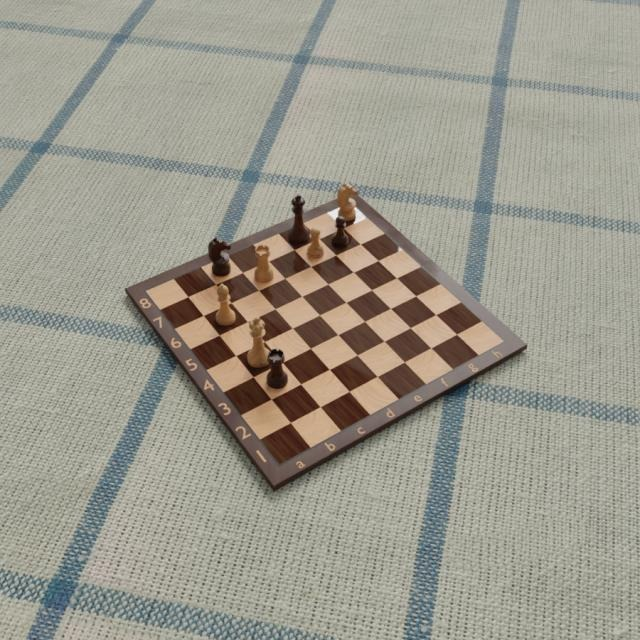black-king: (287, 195, 310, 245)
black-knight: (207, 238, 232, 278)
black-pawn: (331, 215, 349, 248)
black-rook: (265, 347, 286, 389)
white-bishop: (214, 280, 236, 327)
white-king: (246, 314, 270, 369)
white-knight: (337, 181, 359, 222)
white-pawn: (306, 226, 323, 259)
white-rook: (254, 244, 274, 284)
